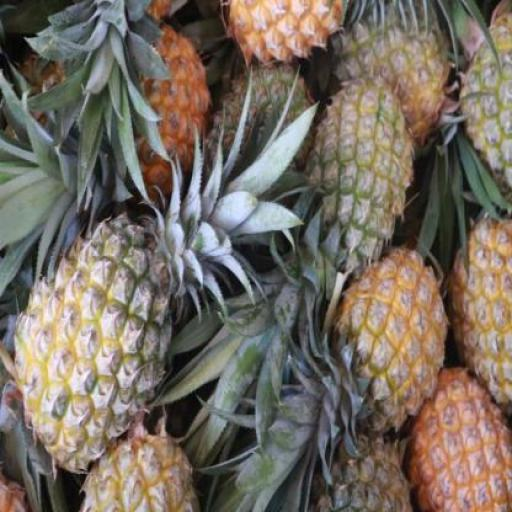------------------------------: (17, 217, 169, 464), (313, 78, 413, 272), (330, 0, 448, 143), (78, 427, 200, 512)
Pineapple - v8 v1: (338, 251, 444, 435), (404, 364, 510, 511)
